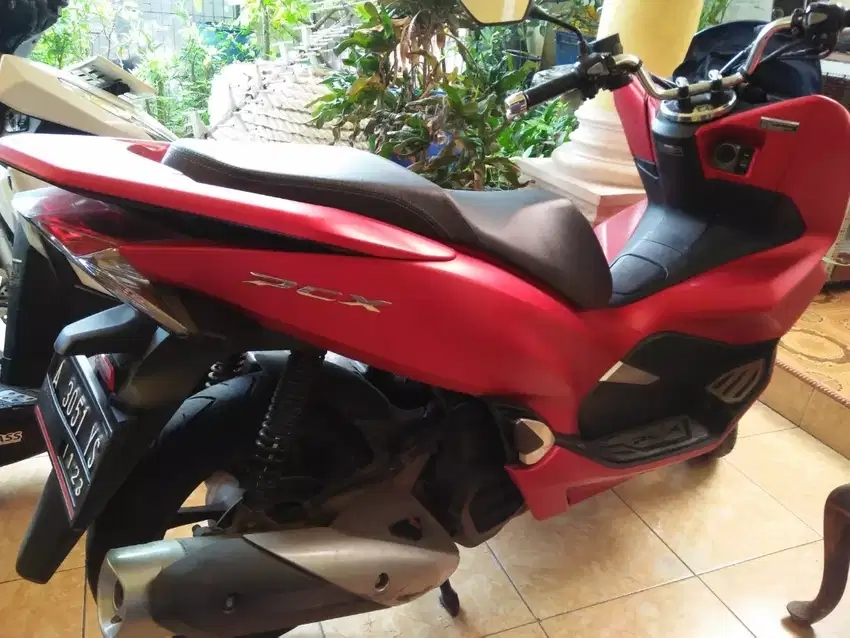plate: (31, 355, 106, 506)
